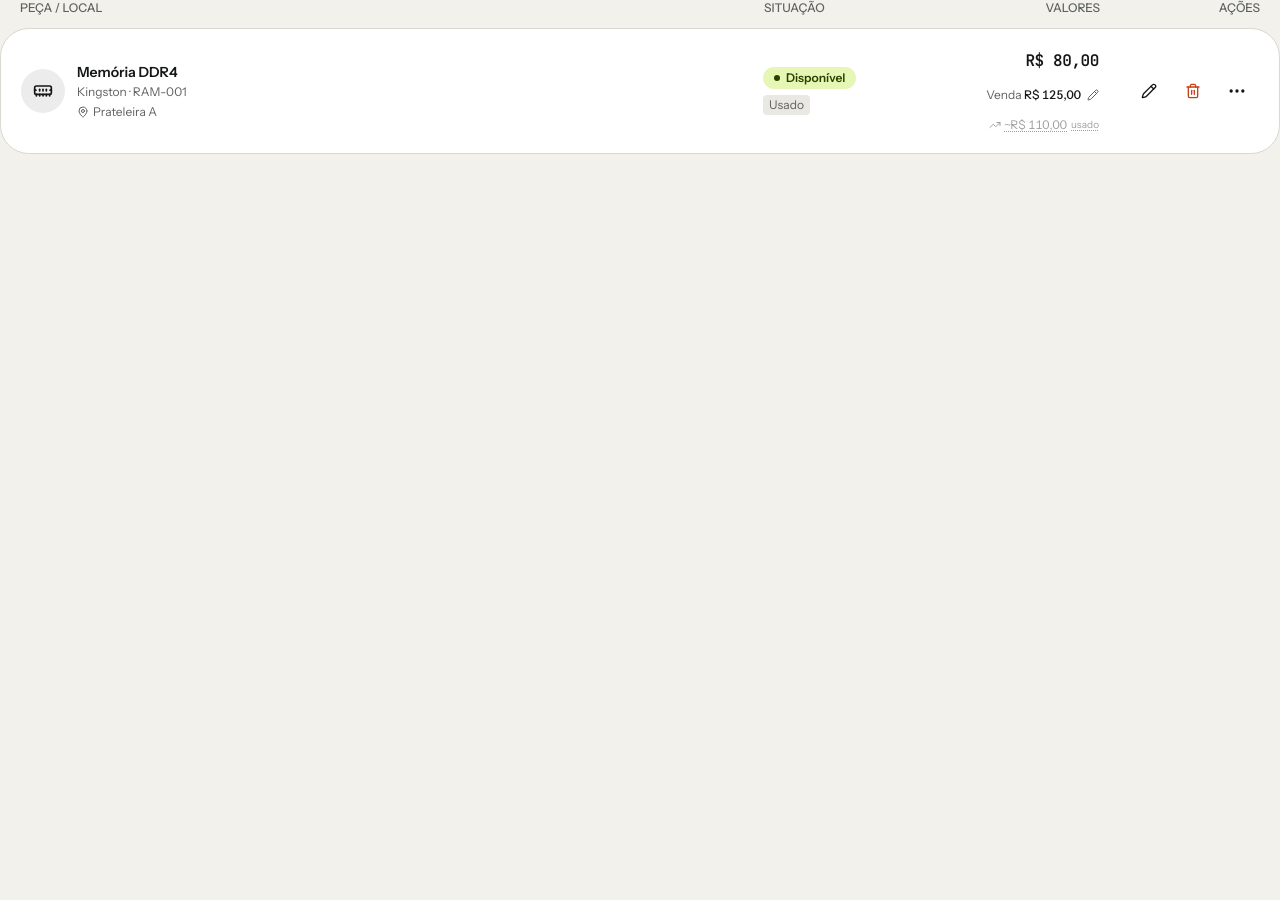
Scenario: ações da lista de estoque › abre pelo valor e salva valores em reais e condição
Click the button with aria-label "Editar valor de venda de Memória DDR4" at (1043, 95), box [980,77,1105,113]
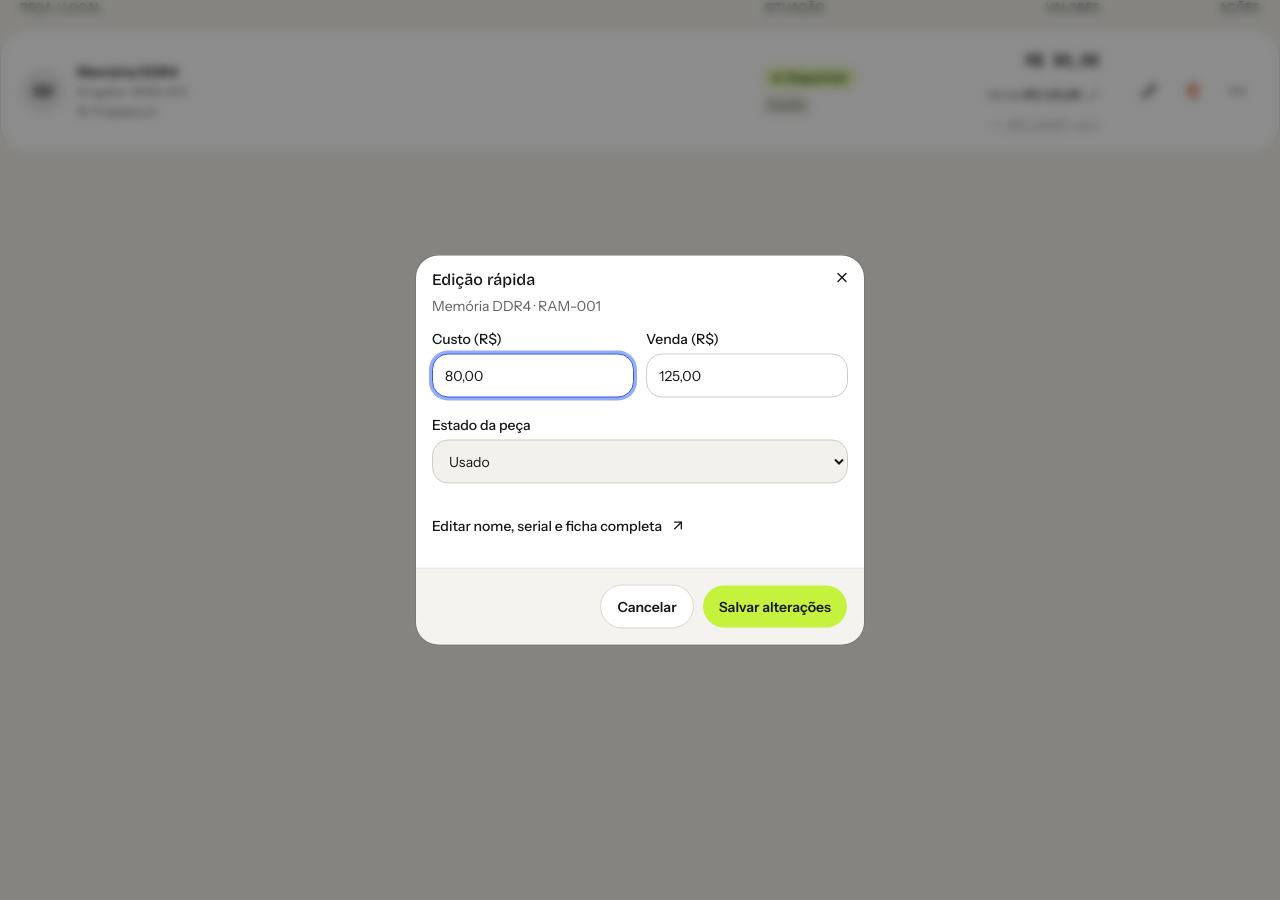
Replace the text in the field labelled "Venda (R$)" with "149,90" at (747, 376), box [646,354,848,398]
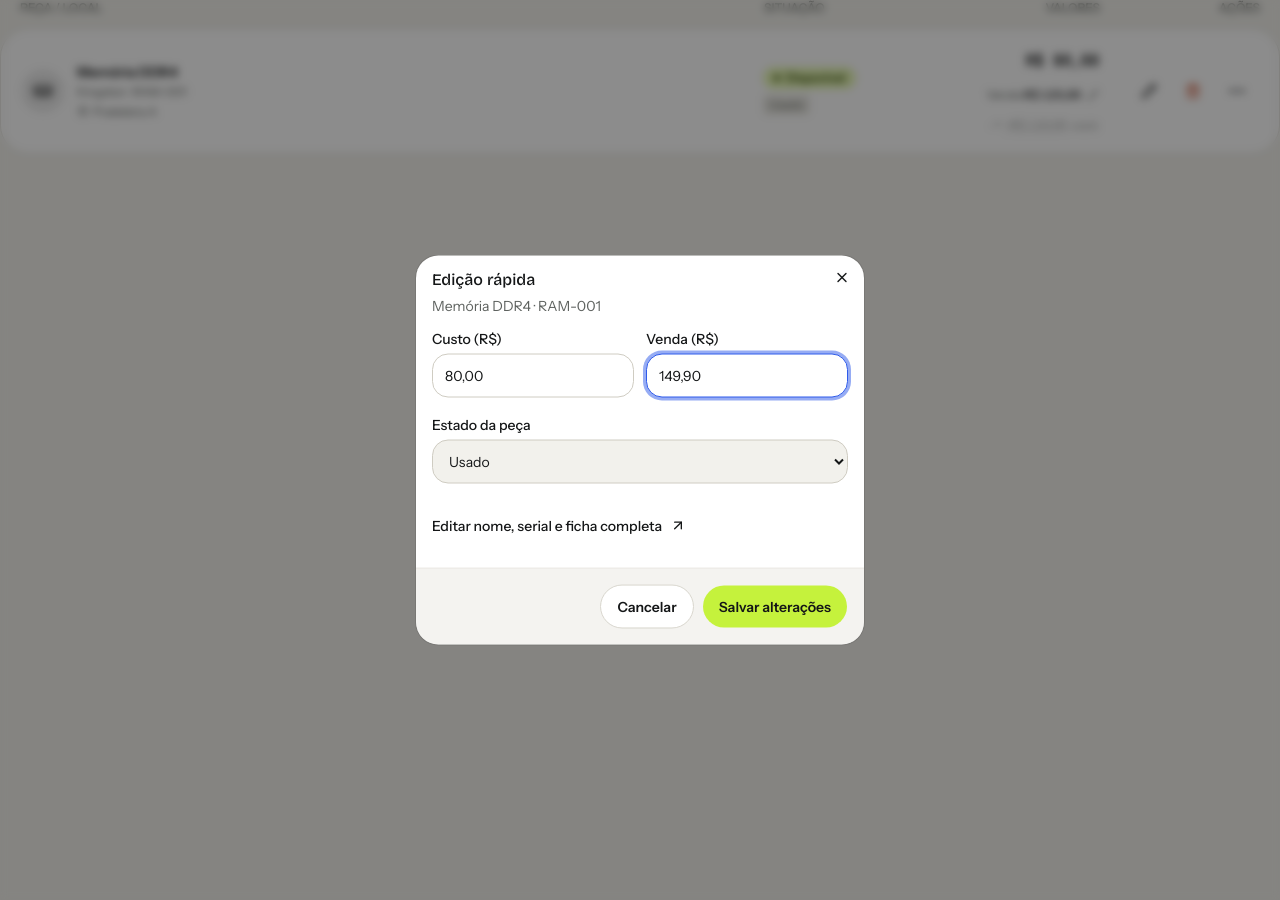
Select "Seminovo" in the dropdown labelled "Estado da peça" at (640, 462), box [432,440,848,484]
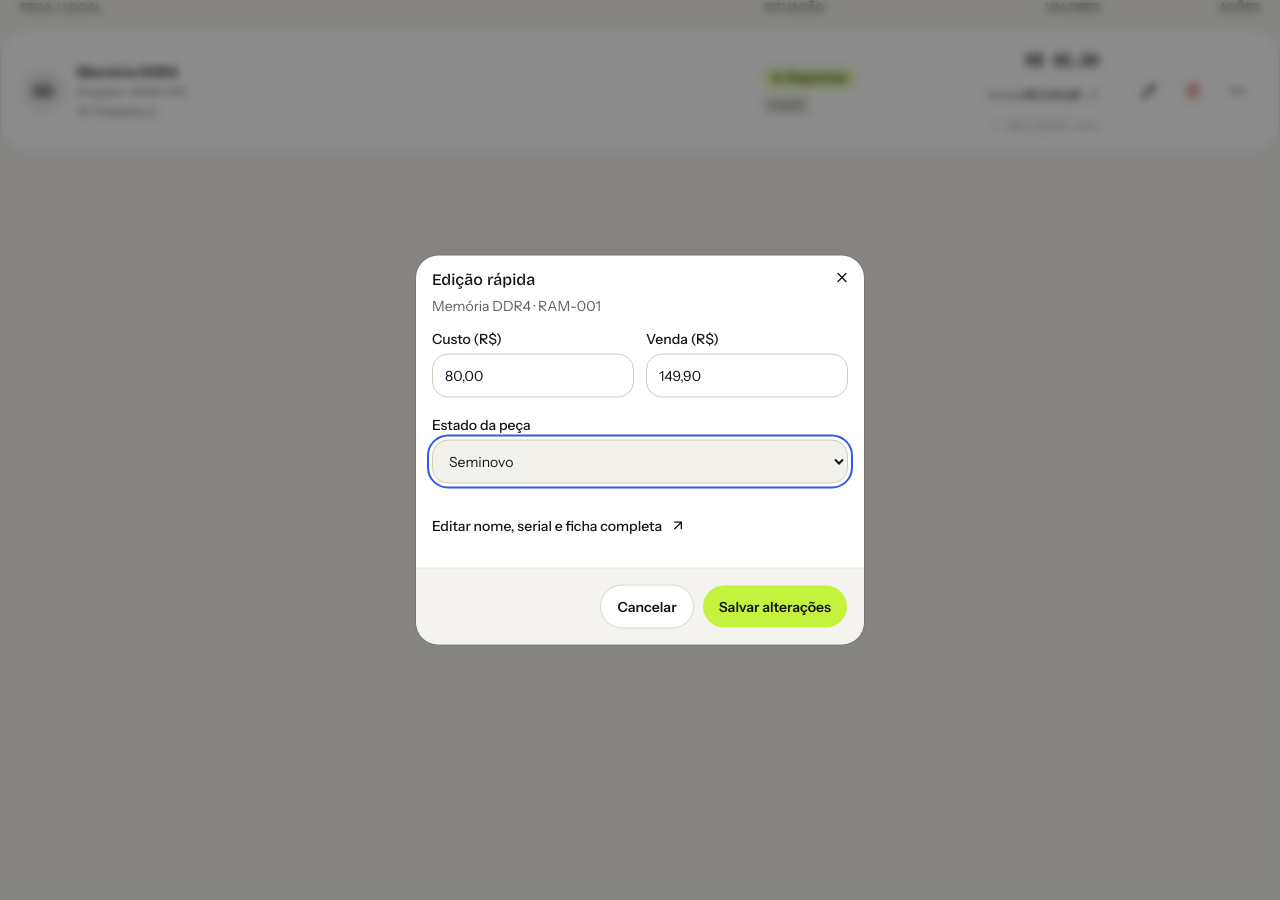
Click the button "Salvar alterações" at (775, 606), box [702,584,848,628]
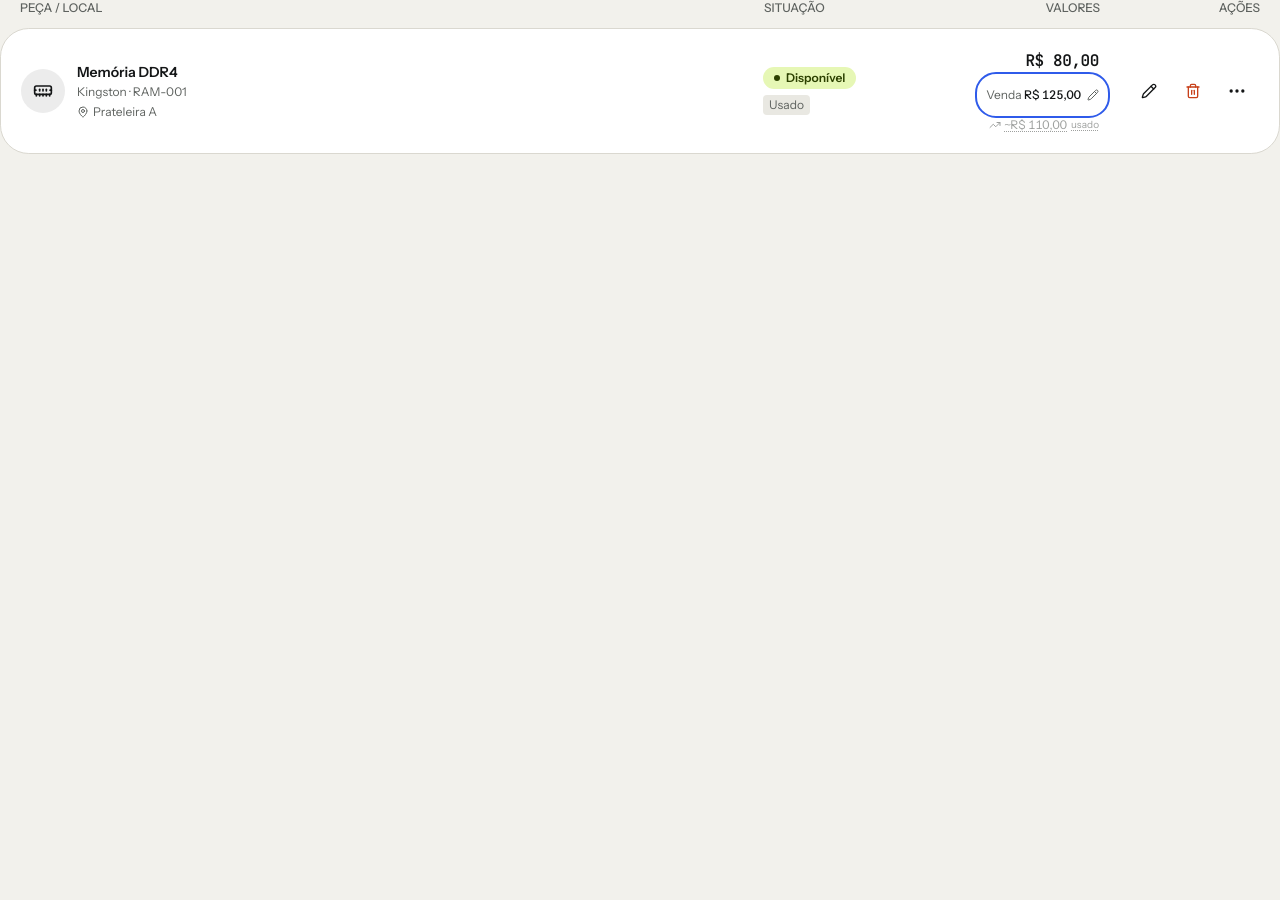
Result: the dialog is gone
